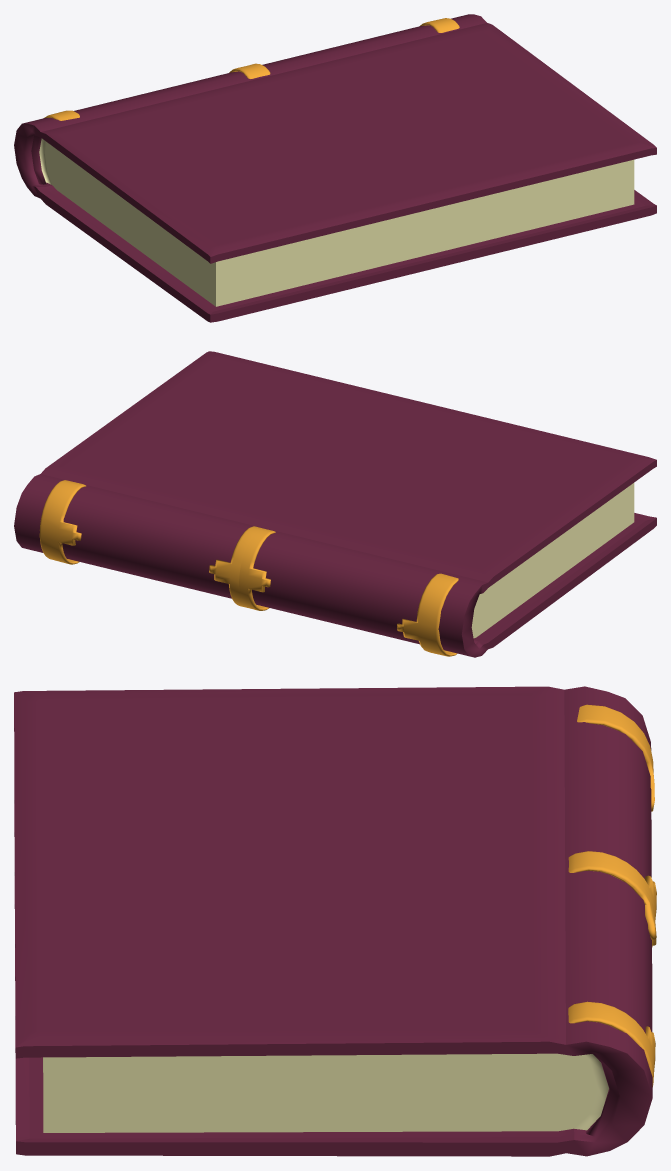
File: book4.fbx
3 renders of one model, top to bottom at view 1: azimuth 30°, elevation 25°; view 2: azimuth 150°, elevation 25°; view 3: azimuth 270°, elevation 25°, orthographic. The views are drawn at different scales.
Visible parts, largest first — view 1: Cube.021; view 2: Cube.021, NurbsPath.010, NurbsPath.011, NurbsPath.012; view 3: Cube.021, NurbsPath.010, NurbsPath.011, NurbsPath.012.
Part boxes in pixels (bbox=[...]): Cube.021: bbox=[14, 14, 656, 322]; Cube.021: bbox=[14, 351, 656, 657]; NurbsPath.010: bbox=[209, 526, 275, 610]; NurbsPath.011: bbox=[39, 480, 85, 564]; NurbsPath.012: bbox=[397, 573, 458, 656]; Cube.021: bbox=[14, 686, 652, 1156]; NurbsPath.010: bbox=[568, 851, 656, 947]; NurbsPath.011: bbox=[568, 1001, 655, 1086]; NurbsPath.012: bbox=[577, 704, 654, 811].
Size of the model in its own units: 515 by 83.64 by 394.
